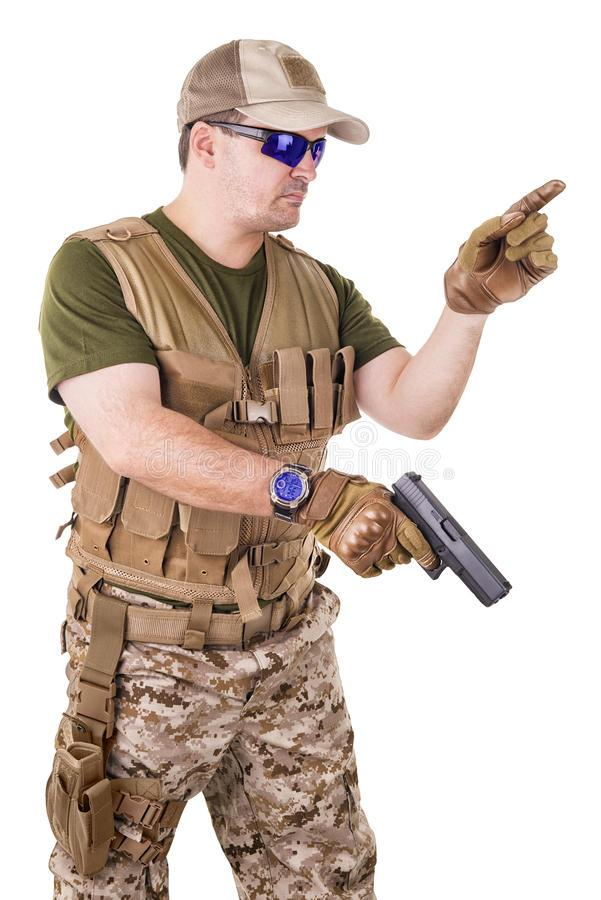criminal: (37, 30, 570, 900)
weapon: (364, 462, 517, 617)
